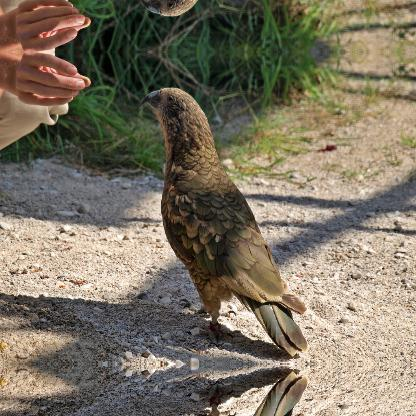Bird: (134, 84, 288, 342)
